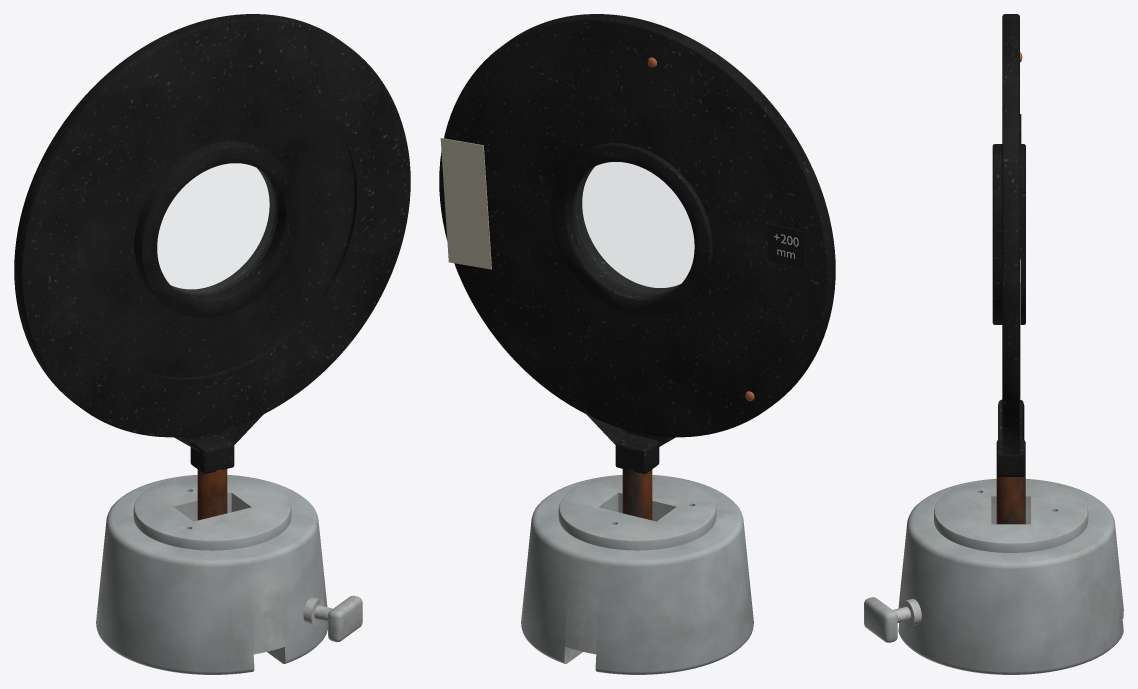
3 renders of one model, left to right at view 1: azimuth 30°, elevation 25°; view 2: azimuth 150°, elevation 25°; view 3: azimuth 270°, elevation 25°, orthographic. The views are drawn at different scales.
Visible parts, largest first — view 1: DiaDen, DeSonXam, Kinh, KepNhua, Que; view 2: DiaDen, DeSonXam, Kinh, GiayDan, KepNhua, Que, NhanNen; view 3: DeSonXam, DiaDen, Que, KepNhua.
Part boxes in pixels (bbox=[...]): DiaDen: bbox=[14, 14, 410, 437]; DeSonXam: bbox=[96, 475, 362, 674]; Kinh: bbox=[158, 164, 274, 292]; KepNhua: bbox=[174, 409, 266, 473]; Que: bbox=[197, 469, 227, 520]; DiaDen: bbox=[439, 14, 835, 437]; DeSonXam: bbox=[521, 475, 753, 674]; Kinh: bbox=[575, 162, 693, 292]; GiayDan: bbox=[440, 138, 491, 269]; KepNhua: bbox=[583, 409, 675, 473]; Que: bbox=[622, 469, 652, 520]; NhanNen: bbox=[767, 223, 805, 269]; DeSonXam: bbox=[864, 478, 1123, 674]; DiaDen: bbox=[992, 14, 1025, 454]; Que: bbox=[996, 475, 1025, 524]; KepNhua: bbox=[996, 399, 1025, 476].
Size of the model in its own units: 0.12 by 0.1782 by 0.0707.
9 materials, 4 textured.
